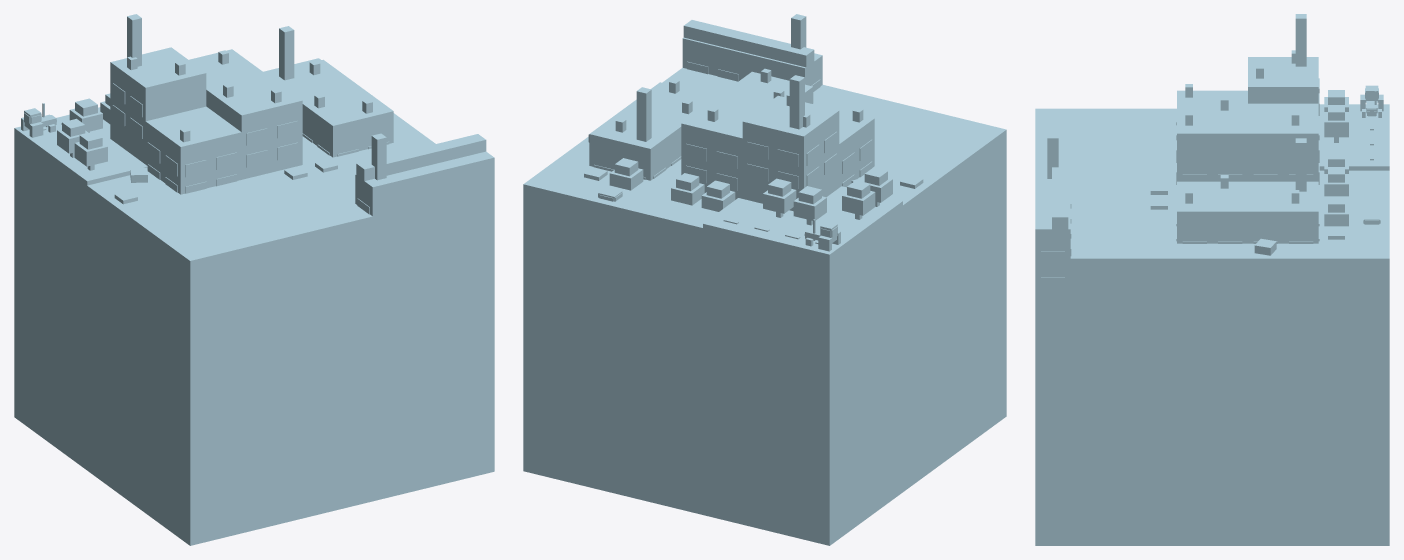
The model's file is block_11_undergroundtanks_100.glb.
3 renders of one model, left to right at view 1: azimuth 30°, elevation 25°; view 2: azimuth 150°, elevation 25°; view 3: azimuth 270°, elevation 25°, orthographic.
Visible parts, largest first — view 1: Patch_LowerLeft_b12_UT, Factories_LowerLeft_b12_UT, Ground_LowerLeft_b12_UT, Asset_Tree_Round.040_UT, Asset_Tractor.002_UT, Asset_Tree_Round.030_UT, Parking_LowerLeft_b12_UT, Asset_Tree_Round.038_UT; view 2: Patch_LowerLeft_b12_UT, Factories_LowerLeft_b12_UT, Roads_LowerLeft_b12_UT, Ground_LowerLeft_b12_UT, Asset_Tree_Round.038_UT, Asset_Tree_Round.030_UT, Asset_Tree_Round.031_UT, Asset_Tree_Round.034_UT, Asset_Tree_Round.033_UT, Asset_Tree_Round.032_UT, Asset_Tractor.002_UT, Asset_Tree_Round.040_UT; view 3: Patch_LowerLeft_b12_UT, Factories_LowerLeft_b12_UT, Ground_LowerLeft_b12_UT, Roads_LowerLeft_b12_UT, Asset_Tree_Round.031_UT, Asset_Tree_Round.034_UT, Asset_Tree_Round.033_UT, Asset_Tractor.002_UT.
Part boxes in pixels (x1=…): Patch_LowerLeft_b12_UT: x1=14, y1=58, x2=494, y2=545; Factories_LowerLeft_b12_UT: x1=110, y1=14, x2=494, y2=286; Ground_LowerLeft_b12_UT: x1=32, y1=122, x2=372, y2=298; Asset_Tree_Round.040_UT: x1=74, y1=131, x2=107, y2=170; Asset_Tractor.002_UT: x1=21, y1=103, x2=56, y2=137; Asset_Tree_Round.030_UT: x1=69, y1=98, x2=102, y2=132; Parking_LowerLeft_b12_UT: x1=155, y1=298, x2=311, y2=329; Asset_Tree_Round.038_UT: x1=57, y1=118, x2=88, y2=157; Patch_LowerLeft_b12_UT: x1=523, y1=67, x2=1006, y2=545; Factories_LowerLeft_b12_UT: x1=589, y1=14, x2=874, y2=211; Roads_LowerLeft_b12_UT: x1=523, y1=202, x2=971, y2=258; Ground_LowerLeft_b12_UT: x1=721, y1=186, x2=953, y2=245; Asset_Tree_Round.038_UT: x1=842, y1=180, x2=875, y2=219; Asset_Tree_Round.030_UT: x1=793, y1=186, x2=826, y2=225; Asset_Tree_Round.031_UT: x1=763, y1=178, x2=796, y2=217; Asset_Tree_Round.034_UT: x1=609, y1=158, x2=643, y2=190; Asset_Tree_Round.033_UT: x1=671, y1=173, x2=704, y2=205; Asset_Tree_Round.032_UT: x1=701, y1=180, x2=735, y2=211; Asset_Tractor.002_UT: x1=804, y1=219, x2=840, y2=251; Asset_Tree_Round.040_UT: x1=861, y1=167, x2=892, y2=206; Patch_LowerLeft_b12_UT: x1=1035, y1=108, x2=1389, y2=545; Factories_LowerLeft_b12_UT: x1=1035, y1=14, x2=1319, y2=329; Ground_LowerLeft_b12_UT: x1=1070, y1=104, x2=1354, y2=326; Roads_LowerLeft_b12_UT: x1=1106, y1=104, x2=1389, y2=309; Asset_Tree_Round.031_UT: x1=1324, y1=105, x2=1348, y2=142; Asset_Tree_Round.034_UT: x1=1324, y1=197, x2=1348, y2=226; Asset_Tree_Round.033_UT: x1=1324, y1=167, x2=1348, y2=196; Asset_Tractor.002_UT: x1=1360, y1=85, x2=1383, y2=117.
Bounding box in the file's own units: 9.52 × 12.34 × 9.5.
